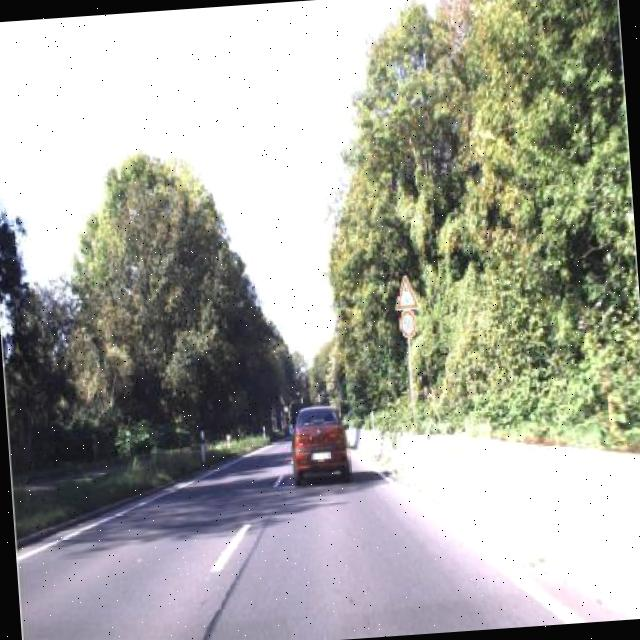Ograniczenie predkosci do 50: (396, 308, 418, 342)
